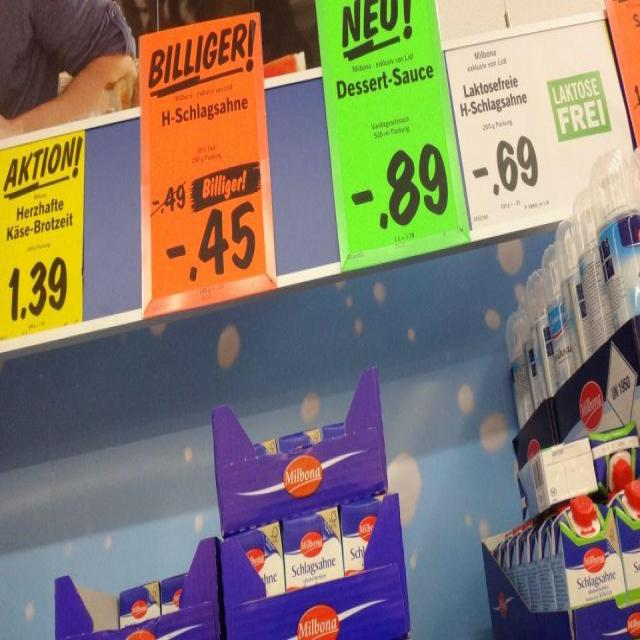Cream: (590, 149, 639, 329), (551, 495, 625, 609), (573, 188, 614, 351), (518, 437, 597, 519), (555, 219, 592, 369), (282, 507, 343, 590), (541, 244, 574, 386), (525, 269, 557, 399), (589, 421, 639, 494), (237, 523, 285, 596), (611, 479, 639, 601), (506, 312, 533, 429), (340, 499, 381, 575), (518, 294, 541, 409), (120, 581, 159, 625), (160, 574, 185, 614)
